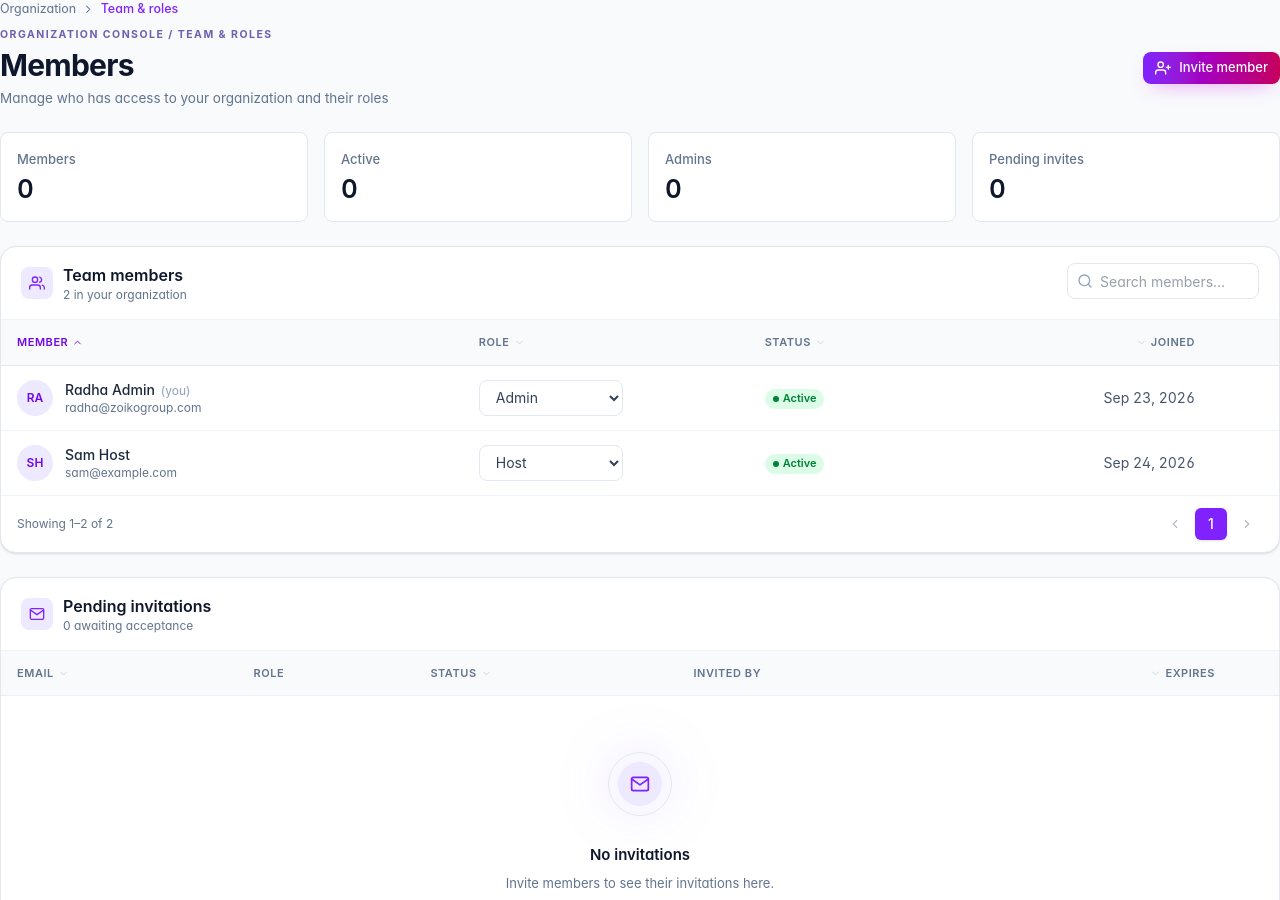
Scenario: promotion to Admin asks for the acting admin's password › a valid password: step-up POST, then the same PATCH once with X-Step-Up, then success
Expected: the text "Sam Host" is shown, [65,446,130,463]
Select "Admin" in the dropdown named "Role for Sam Host" at (551, 463), box [479,445,623,481]
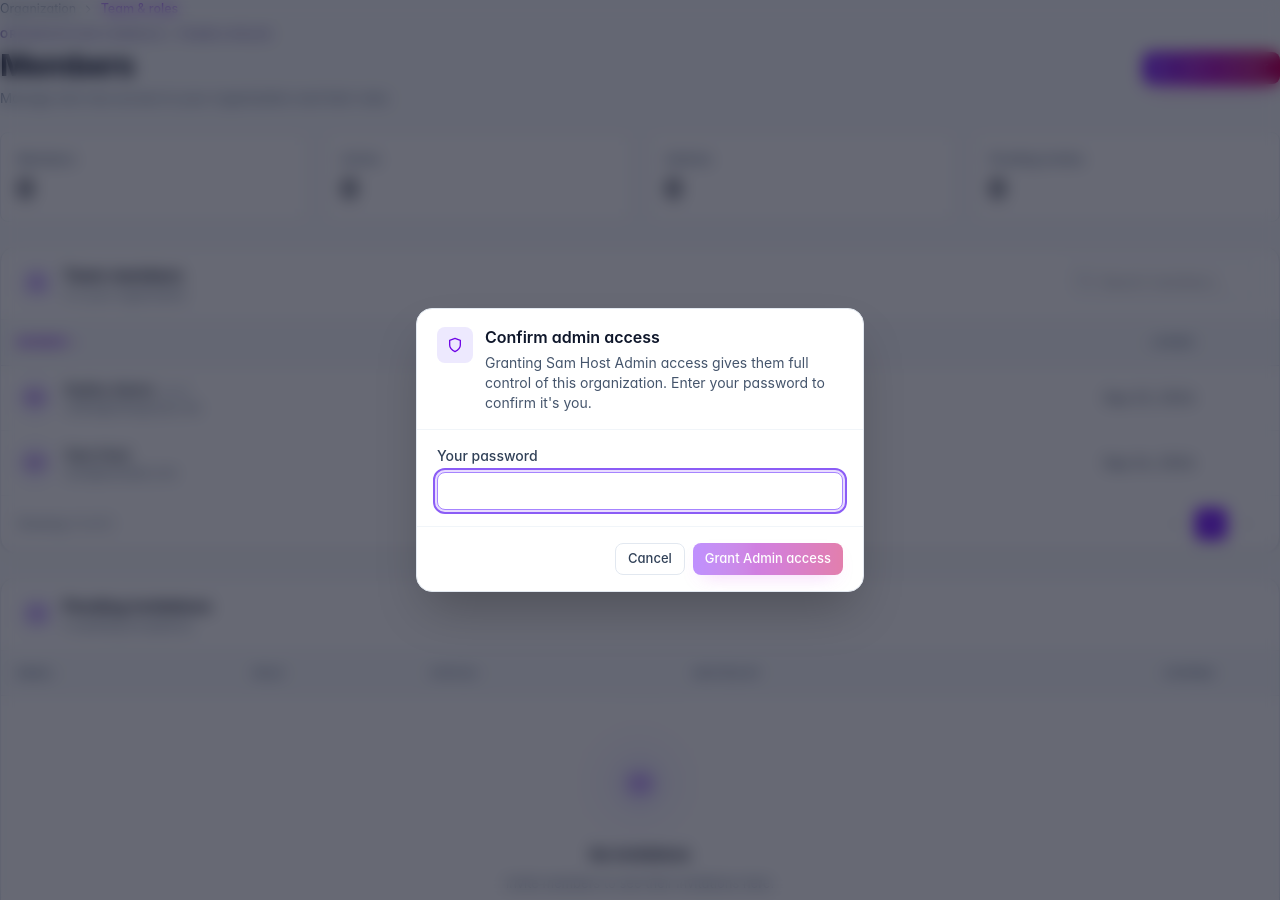
Type "correct horse" into the password field labelled "Your password" at (640, 491), box [437,472,843,510]
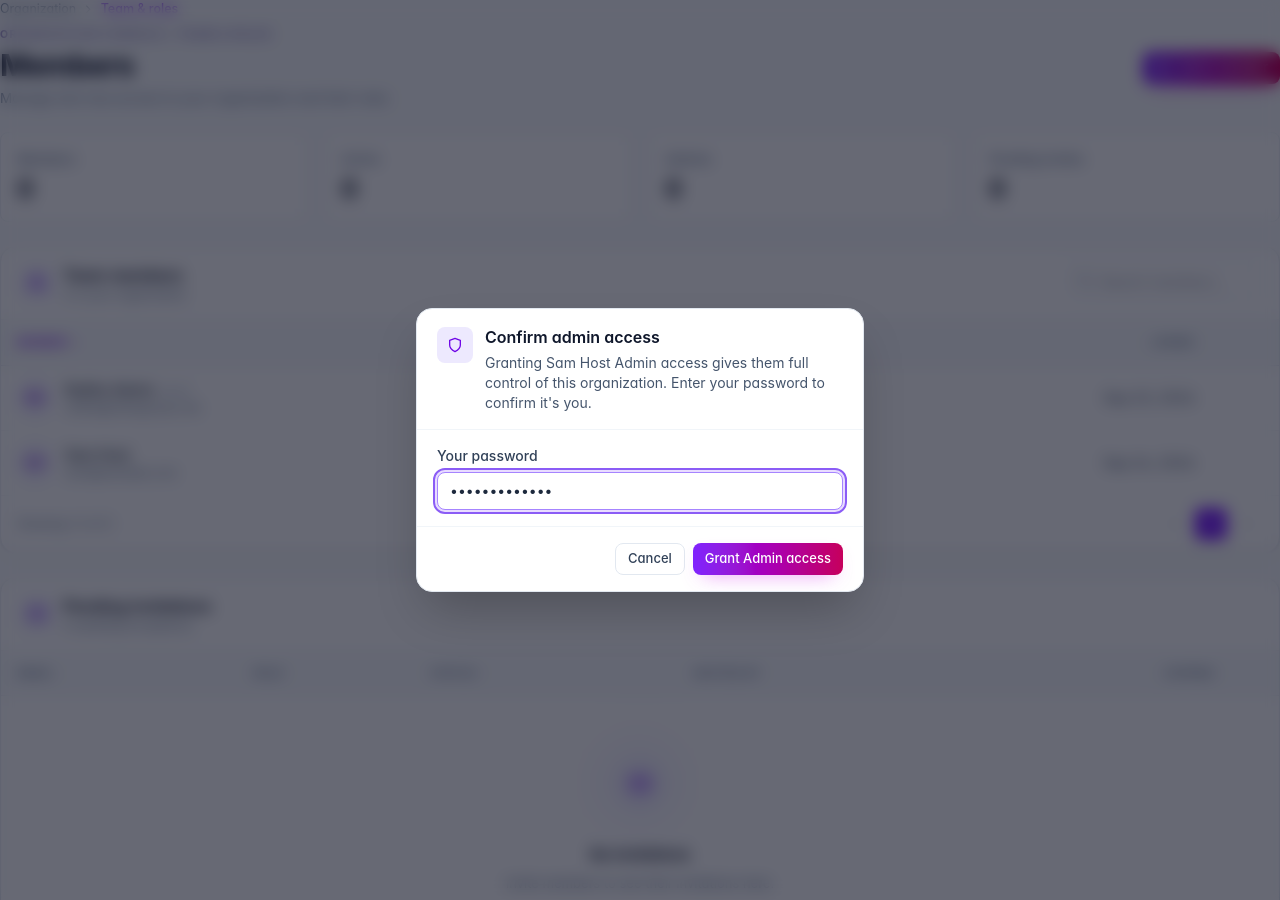
Click the button "Grant Admin access" at (768, 559), box [693,543,843,575]
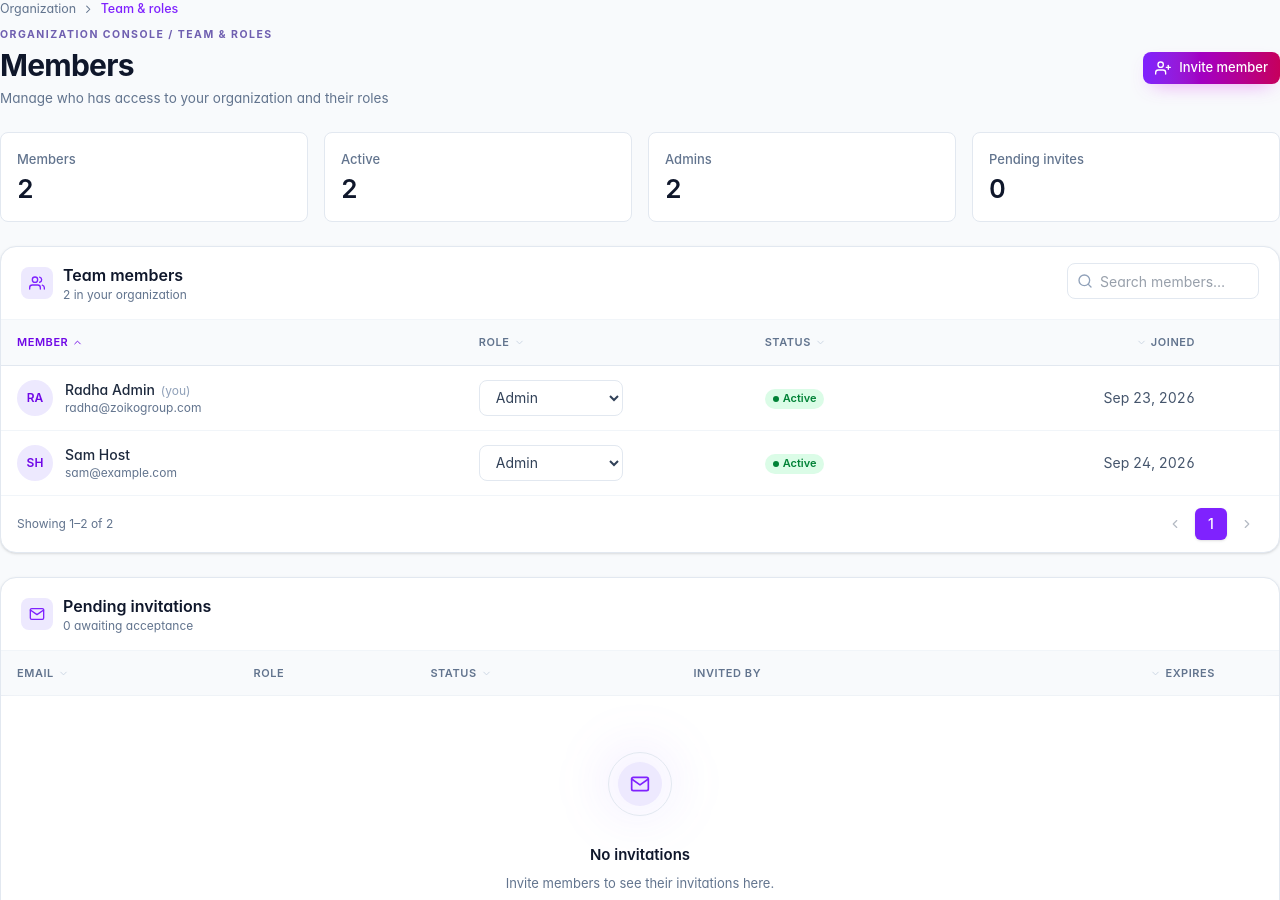
Expected: the dialog is gone
Expected: the dropdown named "Role for Sam Host" is enabled, [479,445,623,481]
